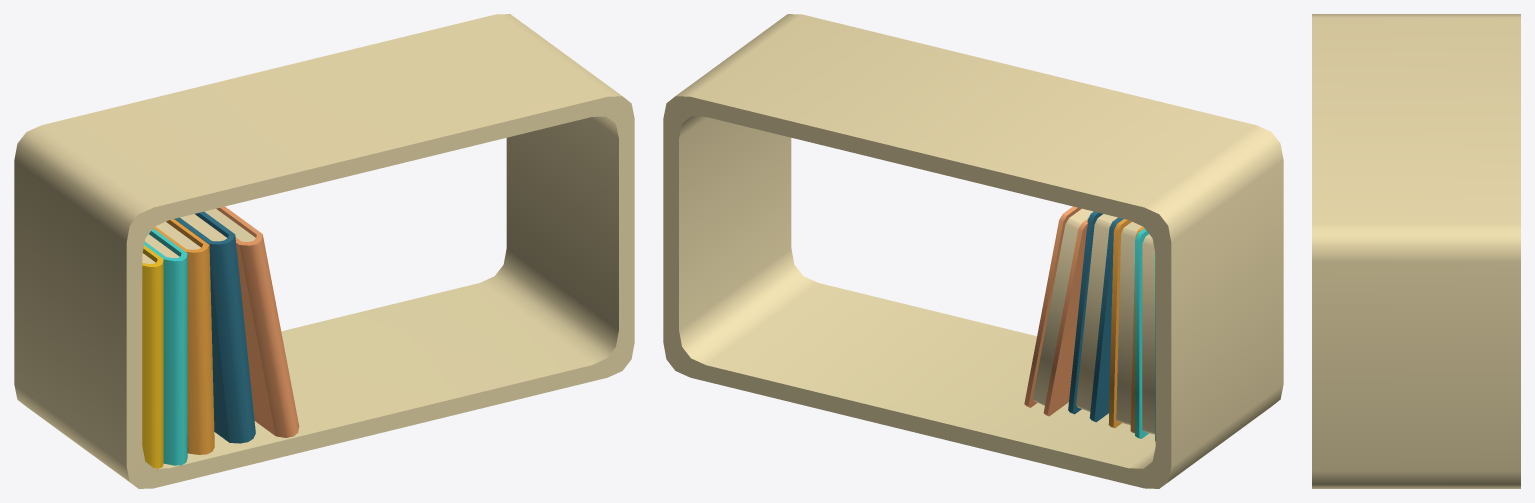
Rendered from BookShelf_2.FBX.
The picture shows the model from 3 angles, left to right: view 1: azimuth 30°, elevation 25°; view 2: azimuth 150°, elevation 25°; view 3: azimuth 270°, elevation 25°; orthographic projection. The views are drawn at different scales.
Parts seen in each view (by area): view 1: Book_Shelf_2; view 2: Book_Shelf_2; view 3: Book_Shelf_2.
Boxes of the visible parts, box(x1,y1,x2,y2) form: Book_Shelf_2: box(14, 14, 634, 488); Book_Shelf_2: box(663, 14, 1283, 488); Book_Shelf_2: box(1312, 14, 1520, 488).
Size of the model in its own units: 59.61 by 31.51 by 22.84.
1 material, 1 textured.
